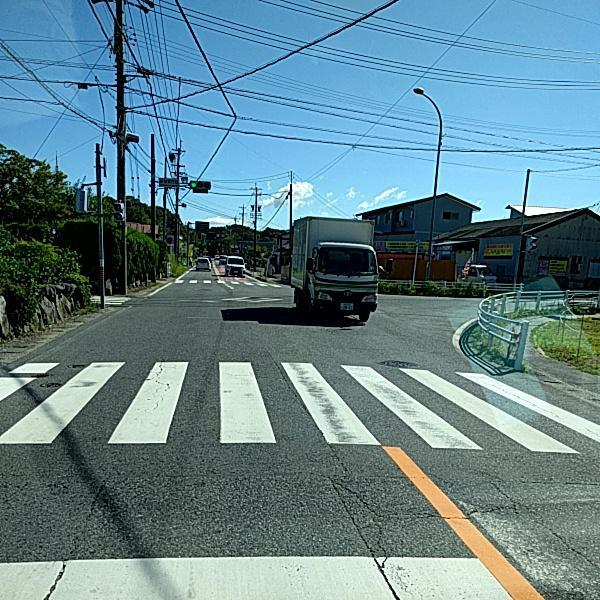D00: (484, 480, 599, 561), (332, 476, 394, 568), (366, 500, 529, 525)
D43: (6, 353, 593, 449)
D50: (377, 358, 418, 368), (37, 378, 60, 387)
